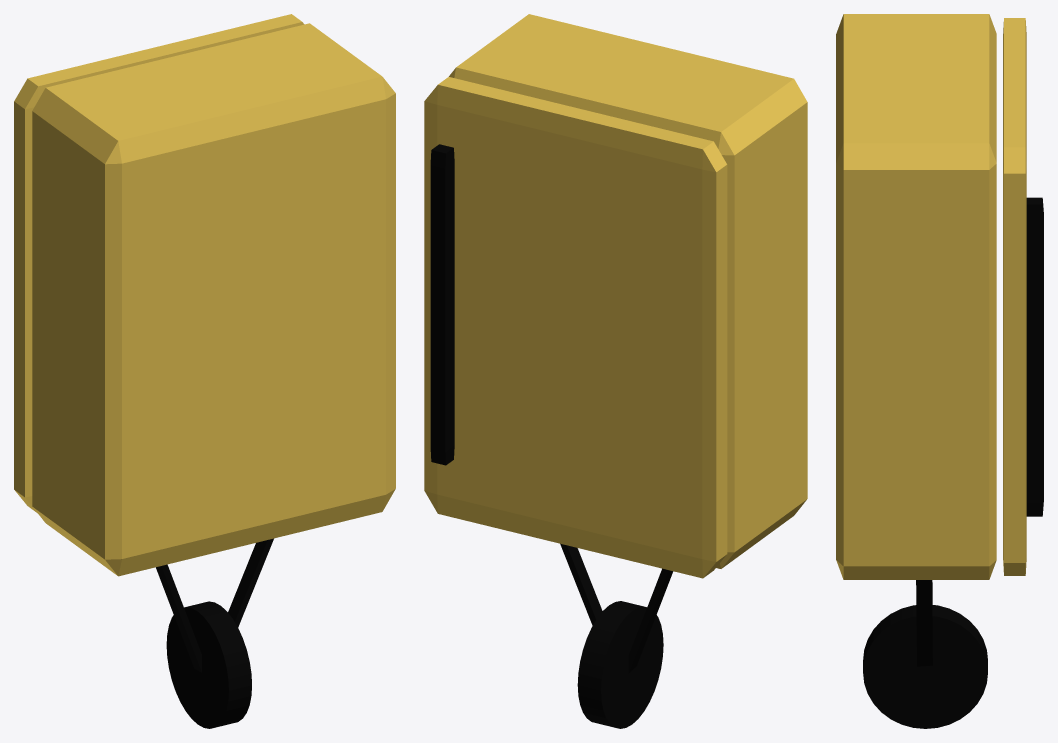
File: small_fridge.glb
3 renders of one model, left to right at view 1: azimuth 30°, elevation 25°; view 2: azimuth 150°, elevation 25°; view 3: azimuth 270°, elevation 25°, orthographic.
Visible parts, largest first — view 1: Cube.035, Cube.031, Cylinder.007, Cube.033, Cube.034; view 2: Cube.031, Cube.035, Cylinder.007, Cube.032, Cube.033, Cube.034; view 3: Cube.035, Cube.031, Cylinder.007, Cube.032, Cube.034.
Part boxes in pixels (x1,y1,x2,y2): Cube.035: (32,23,395,576); Cube.031: (14,14,304,513); Cylinder.007: (166,601,251,728); Cube.033: (156,564,201,672); Cube.034: (228,538,273,627); Cube.031: (424,77,727,578); Cube.035: (449,14,807,568); Cylinder.007: (577,601,663,728); Cube.032: (430,144,454,465); Cube.033: (628,568,673,672); Cube.034: (560,543,602,625); Cube.035: (836,14,996,579); Cube.031: (1003,18,1026,575); Cylinder.007: (863,605,987,728); Cube.032: (1026,197,1043,516); Cube.034: (916,580,932,666).
Size of the model in its own units: 2.03 by 4.29 by 1.25.
